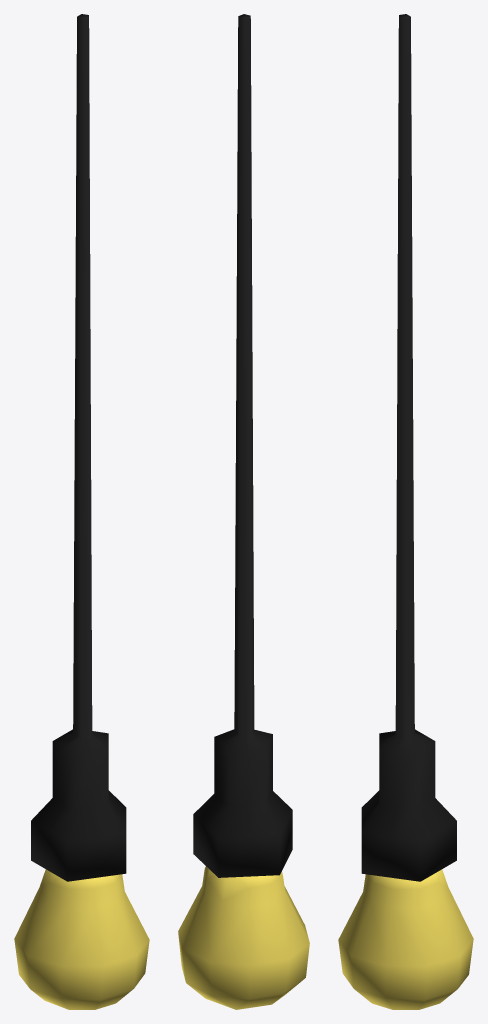
The model's file is Lightbulb.fbx.
The picture shows the model from 3 angles, left to right: view 1: azimuth 90°, elevation 25°; view 2: azimuth 150°, elevation 25°; view 3: azimuth 270°, elevation 25°; orthographic projection.
Parts seen in each view (by area): view 1: light_pole, light_bulb; view 2: light_pole, light_bulb; view 3: light_pole, light_bulb.
Part boxes in pixels (bbox=[...]): light_pole: bbox=[31, 14, 126, 881]; light_bulb: bbox=[14, 869, 149, 1009]; light_pole: bbox=[193, 14, 292, 877]; light_bulb: bbox=[178, 866, 309, 1009]; light_pole: bbox=[361, 14, 456, 881]; light_bulb: bbox=[338, 869, 473, 1009].
Bounding box in the file's own units: 4.77 × 40.46 × 5.02.
2 materials, 1 textured.
